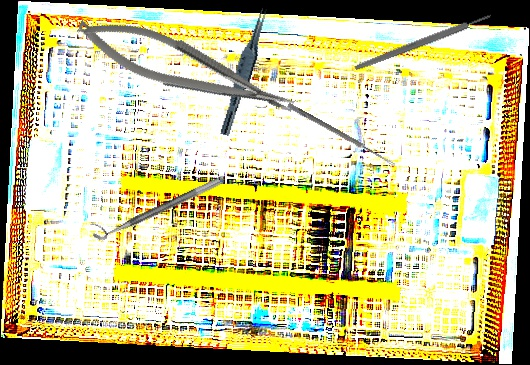Fixation Ring: (88, 166, 222, 244)
Needle Holder: (70, 1, 300, 136)
Scalpel Handle: (354, 12, 493, 72)
Surgical Spoon: (286, 102, 397, 168)
Tissue Forceps: (219, 5, 271, 139)
